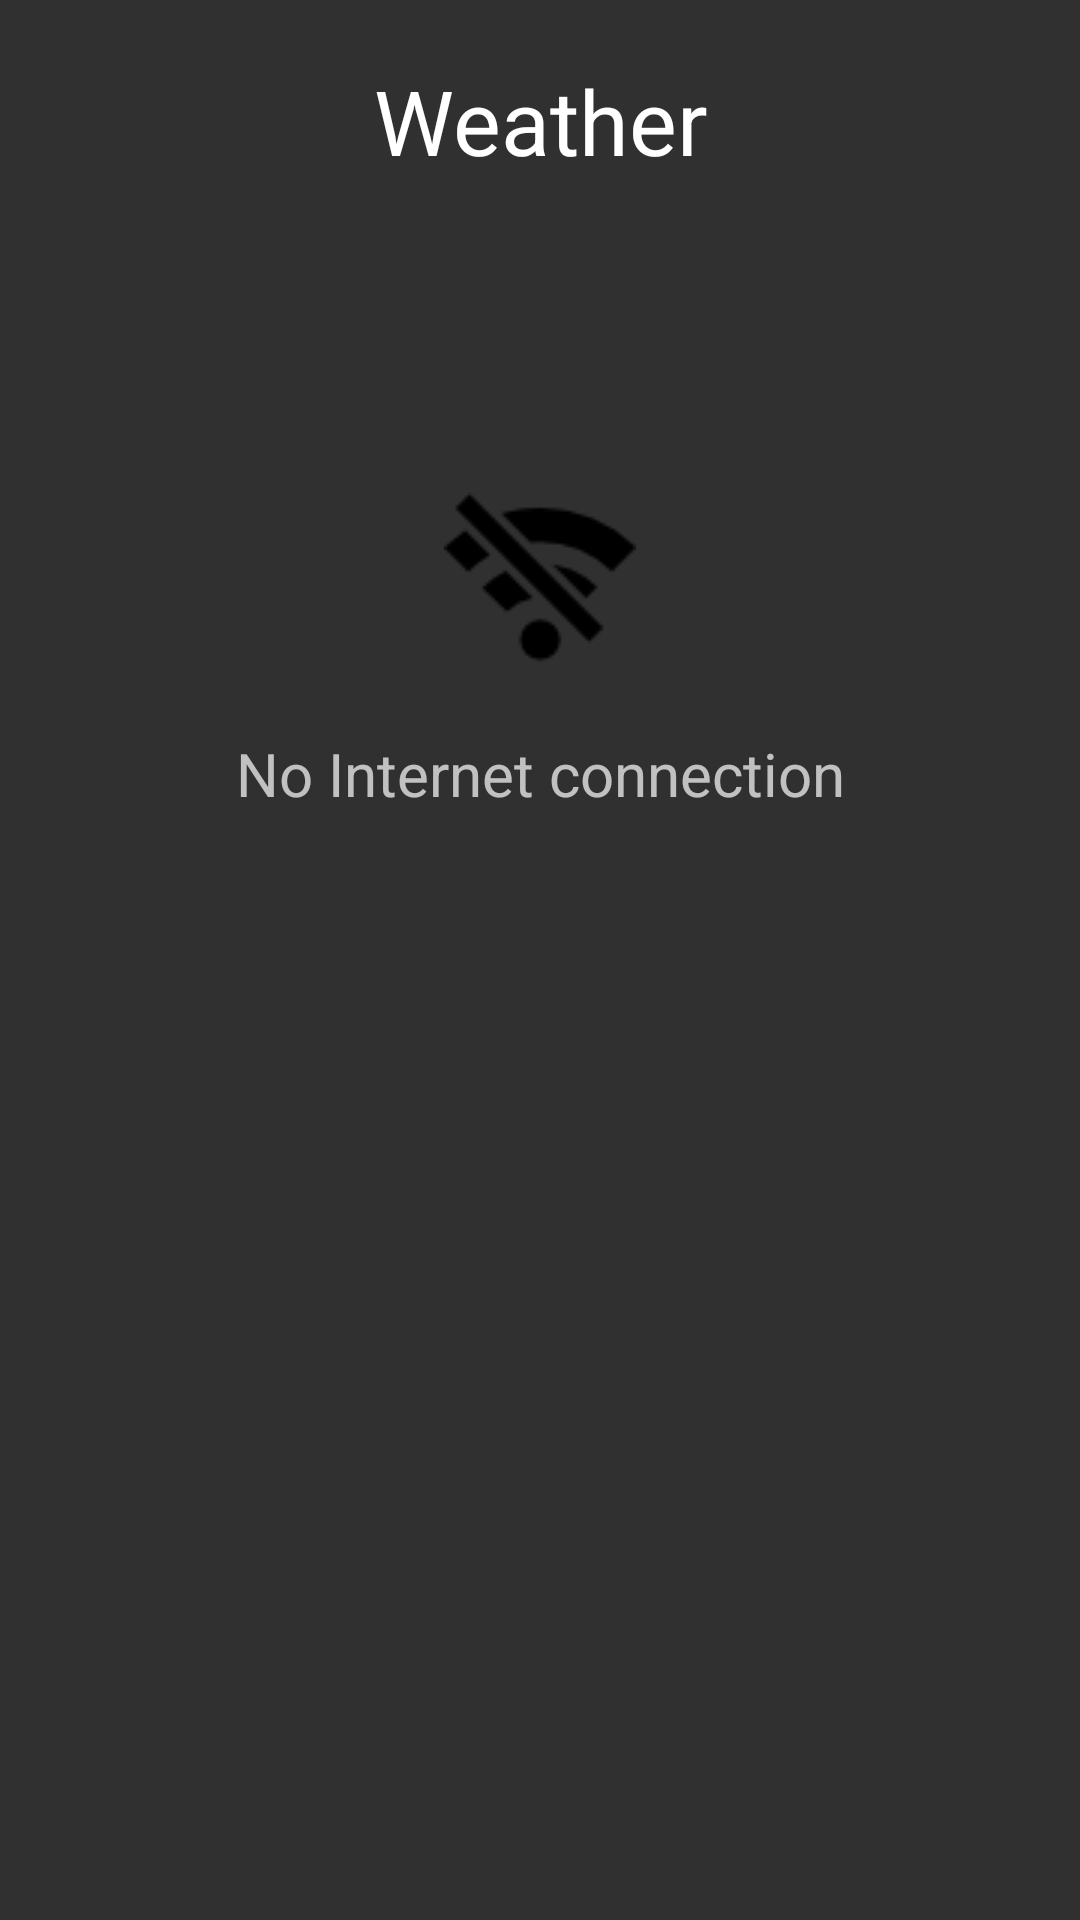

Icons on this 1080x1920 Android screen, each with its box as bbox=(x1, y1, x2, y2):
wifi off: bbox=(444, 495, 636, 659)
